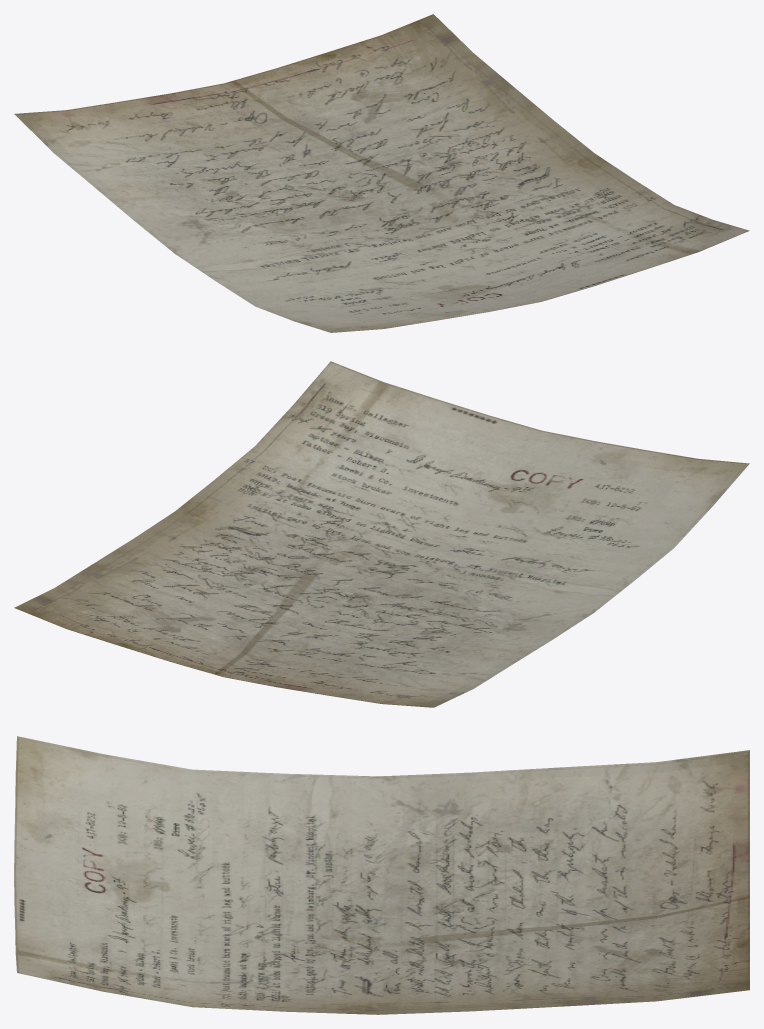
The model's file is SM_Paper_D.fbx.
The picture shows the model from 3 angles, top to bottom: view 1: azimuth 30°, elevation 25°; view 2: azimuth 150°, elevation 25°; view 3: azimuth 270°, elevation 25°; orthographic projection. The views are drawn at different scales.
Visible parts, largest first — view 1: SM_Paper_D; view 2: SM_Paper_D; view 3: SM_Paper_D.
Boxes of the visible parts, bbox=[...] form: SM_Paper_D: bbox=[14, 14, 749, 332]; SM_Paper_D: bbox=[14, 361, 749, 707]; SM_Paper_D: bbox=[14, 736, 749, 1014].
Bounding box in the file's own units: 28.49 × 3.27 × 37.36.
